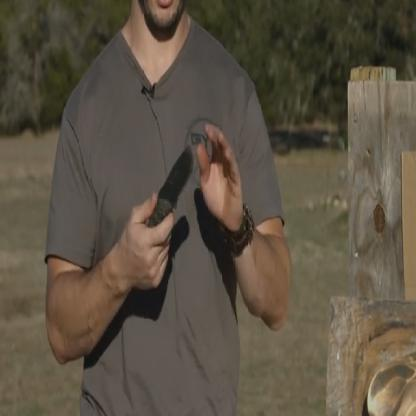knife: (120, 131, 196, 294)
